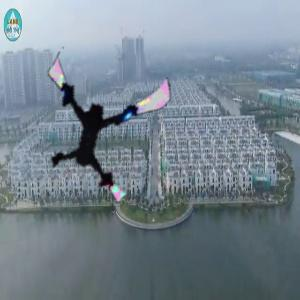drone: (24, 49, 166, 191)
